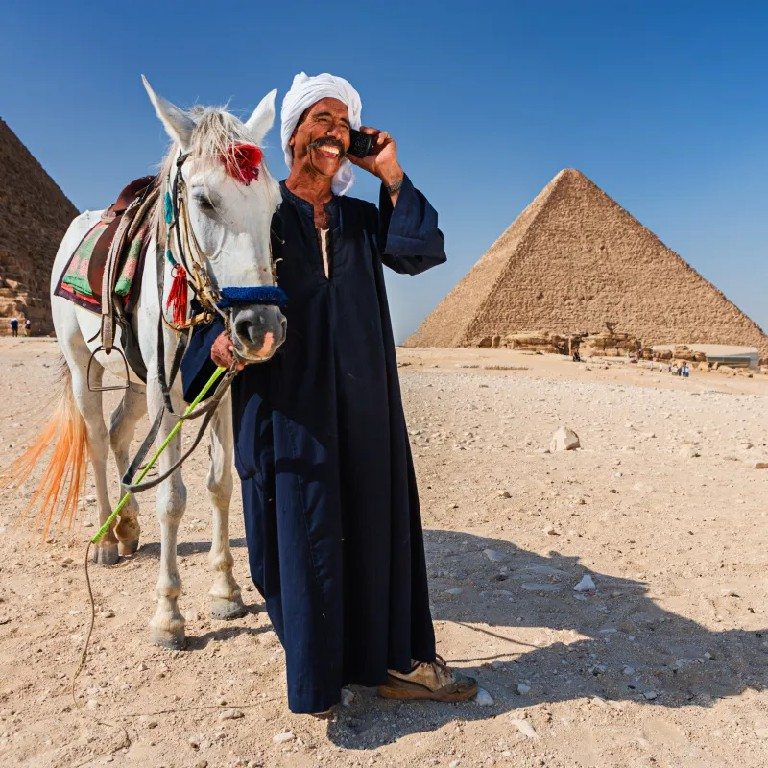Pyramid: (400, 167, 768, 352)
